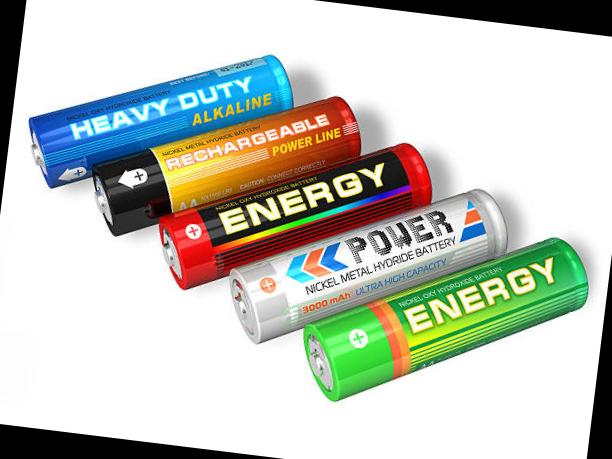battery: (288, 215, 602, 419), (133, 112, 462, 304), (210, 171, 529, 348), (82, 79, 385, 248), (22, 34, 315, 203)
